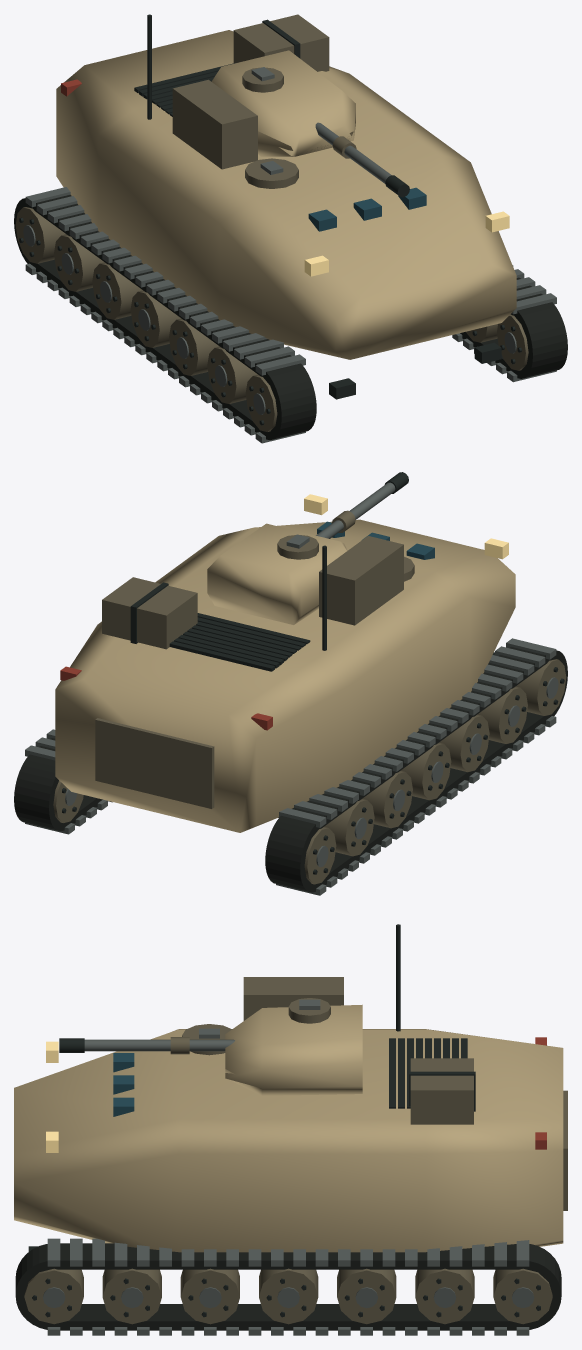
The model's file is ifv.glb.
3 views of the same model, one above another, from view 1: azimuth 30°, elevation 25°; view 2: azimuth 150°, elevation 25°; view 3: azimuth 270°, elevation 25° (orthographic).
Visible parts, largest first — view 1: armor (×2), trim (×2), steel (×2), rubber, dark, stowage, glass, lamp; view 2: armor (×2), trim (×2), steel (×2), rubber, dark, stowage, lamp, glass; view 3: armor (×2), trim (×2), rubber, steel (×2), dark, stowage, glass, lamp.
Boxes of the visible parts, <box> form: armor (×2): <box>56,30,516,359</box>; trim (×2): <box>15,67,528,431</box>; steel (×2): <box>23,122,556,443</box>; rubber: <box>14,194,567,440</box>; dark: <box>19,14,521,425</box>; stowage: <box>233,14,329,71</box>; glass: <box>308,187,426,231</box>; lamp: <box>304,211,509,276</box>; armor (×2): <box>55,519,515,832</box>; trim (×2): <box>53,535,566,884</box>; steel (×2): <box>25,482,558,895</box>; rubber: <box>14,647,567,892</box>; dark: <box>62,545,564,874</box>; stowage: <box>102,577,197,649</box>; lamp: <box>304,494,508,559</box>; glass: <box>317,521,434,559</box>; armor (×2): <box>14,1004,563,1252</box>; trim (×2): <box>24,977,567,1324</box>; rubber: <box>15,1243,561,1330</box>; steel (×2): <box>43,1028,534,1335</box>; dark: <box>28,924,540,1317</box>; stowage: <box>410,1058,473,1124</box>; glass: <box>113,1053,134,1116</box>; lamp: <box>46,1041,58,1152</box>.
Size of the model in its own units: 3.31 by 3.06 by 5.24.
